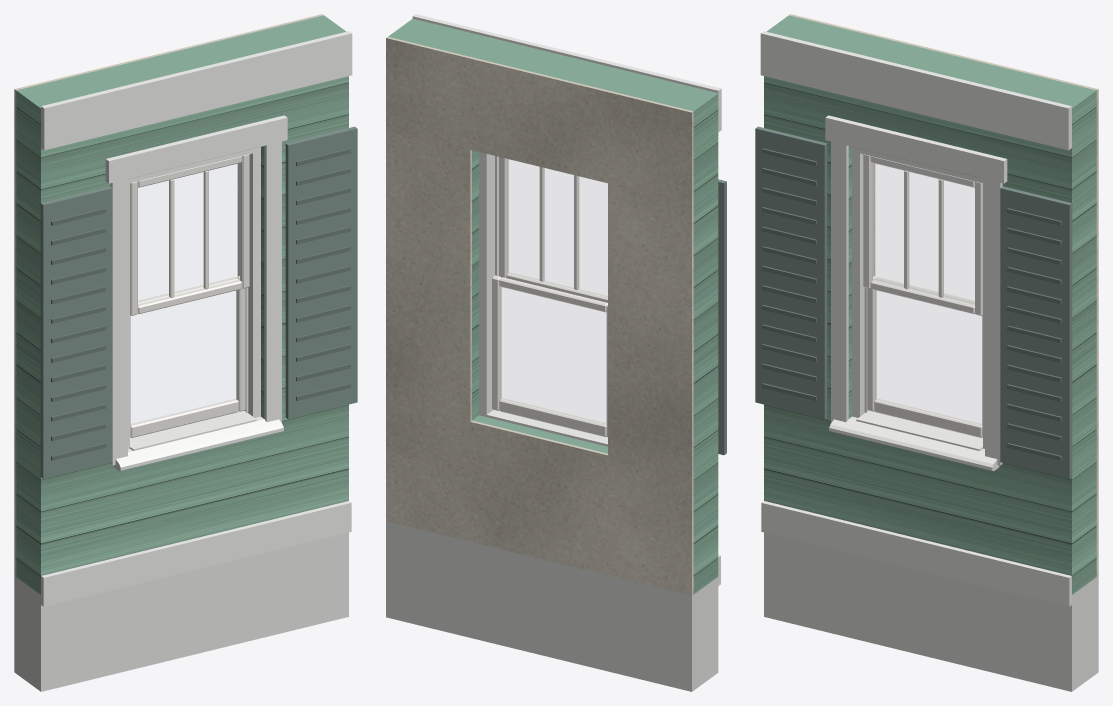
Rendered from wall_c_window.glb.
3 renders of one model, left to right at view 1: azimuth 30°, elevation 25°; view 2: azimuth 150°, elevation 25°; view 3: azimuth 330°, elevation 25°, orthographic.
Visible parts, largest first — view 1: wall_c_window_siding_c, wall_c_window_trim, wall_c_window_shutter, wall_c_window_lattice, folha_glass, wall_c_window_glass, wall_c_window_shutter_dark, wall_c_window_sash, wall_c_window_frame, folha_sash, wall_c_window_plaster; view 2: wall_c_window_plaster, wall_c_window_lattice, wall_c_window_siding_c, folha_glass, wall_c_window_glass, folha_sash, wall_c_window_frame, wall_c_window_sash, wall_c_window_trim, wall_c_window_shutter; view 3: wall_c_window_siding_c, wall_c_window_trim, wall_c_window_shutter, wall_c_window_lattice, folha_glass, wall_c_window_glass, wall_c_window_shutter_dark, wall_c_window_sash, wall_c_window_frame, folha_sash, wall_c_window_plaster.
Part boxes in pixels (x1,y1,x2,y2): wall_c_window_siding_c: (16, 15, 348, 594); wall_c_window_trim: (41, 31, 352, 606); wall_c_window_shutter: (40, 126, 357, 478); wall_c_window_lattice: (14, 532, 348, 691); folha_glass: (131, 291, 236, 424); wall_c_window_glass: (138, 163, 240, 304); wall_c_window_shutter_dark: (51, 148, 350, 460); wall_c_window_sash: (130, 154, 249, 315); wall_c_window_frame: (128, 147, 260, 448); folha_sash: (130, 276, 245, 437); wall_c_window_plaster: (14, 14, 323, 576); wall_c_window_plaster: (386, 37, 693, 595); wall_c_window_lattice: (386, 521, 718, 691); wall_c_window_siding_c: (388, 18, 718, 594); folha_glass: (501, 287, 605, 423); wall_c_window_glass: (508, 160, 607, 296); folha_sash: (492, 275, 607, 437); wall_c_window_frame: (479, 152, 498, 416); wall_c_window_sash: (499, 157, 607, 302); wall_c_window_trim: (412, 14, 721, 585); wall_c_window_shutter: (718, 179, 726, 455); wall_c_window_siding_c: (764, 15, 1096, 594); wall_c_window_trim: (760, 31, 1071, 606); wall_c_window_shutter: (755, 126, 1072, 478); wall_c_window_lattice: (764, 532, 1098, 691); folha_glass: (876, 291, 981, 424); wall_c_window_glass: (872, 163, 974, 304); wall_c_window_shutter_dark: (762, 148, 1061, 460); wall_c_window_sash: (863, 154, 982, 315); wall_c_window_frame: (852, 147, 984, 448); folha_sash: (867, 276, 982, 437); wall_c_window_plaster: (789, 14, 1098, 576).
Bounding box in the file's own units: 2.04 × 3.63 × 0.38.
9 materials, 2 textured.
